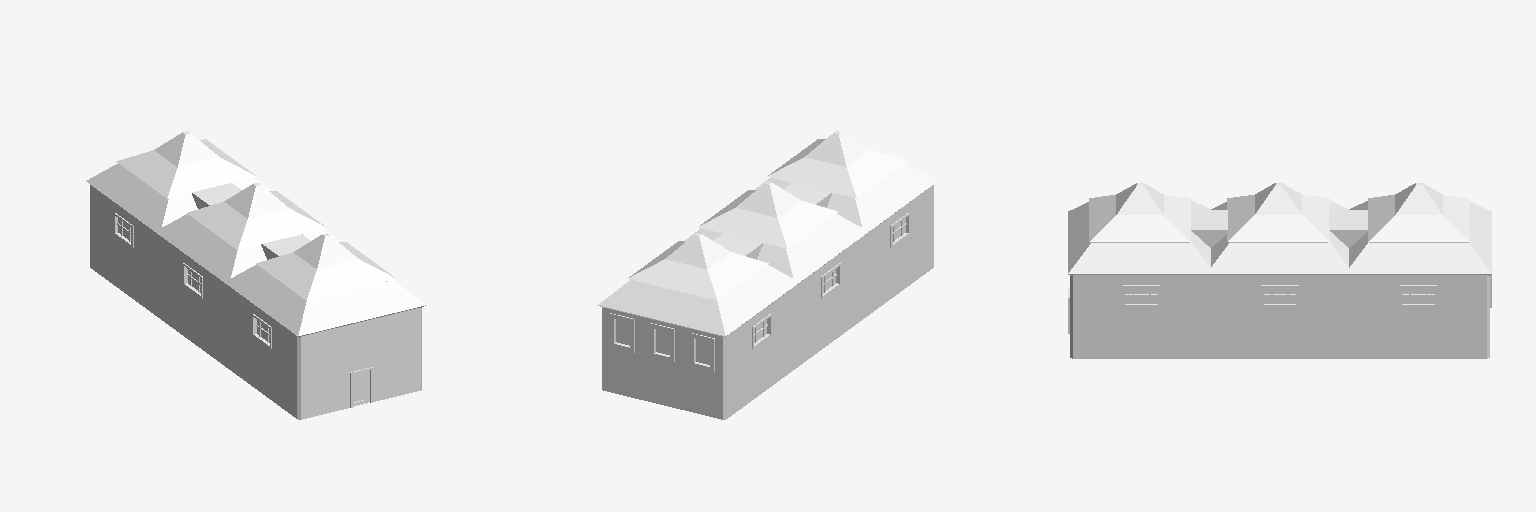
File: House(right).obj
The picture shows the model from 3 angles: view 1: azimuth 30°, elevation 25°; view 2: azimuth 150°, elevation 25°; view 3: azimuth 270°, elevation 25°; orthographic projection.
Parts seen in each view (by area): view 1: mergedBlocks; view 2: mergedBlocks; view 3: mergedBlocks.
Boxes of the visible parts, x1=… form: mergedBlocks: x1=86, y1=131, x2=425, y2=419; mergedBlocks: x1=598, y1=131, x2=937, y2=419; mergedBlocks: x1=1068, y1=183, x2=1491, y2=358.
Size of the model in its own units: 3.21 by 3.46 by 9.21.